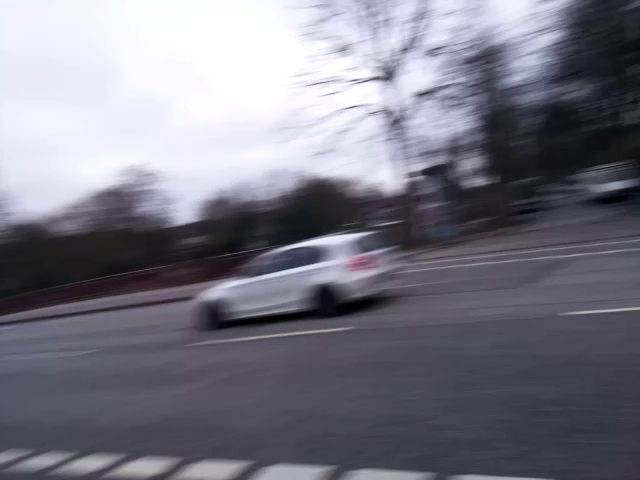car: (186, 222, 401, 345)
